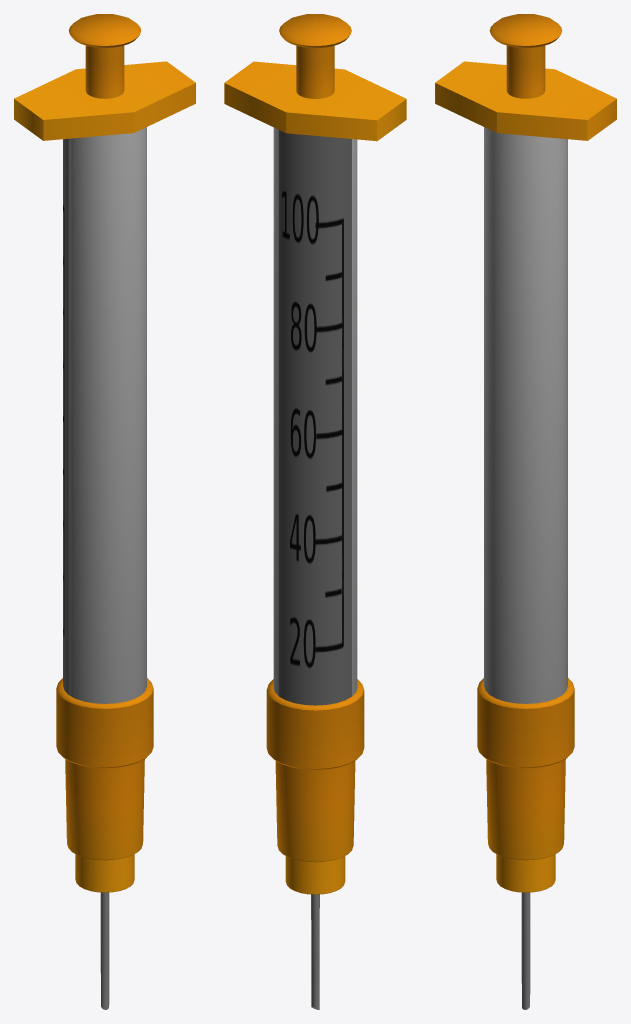
The model's file is Syrn_V1.FBX.
The picture shows the model from 3 angles, left to right: view 1: azimuth 30°, elevation 25°; view 2: azimuth 150°, elevation 25°; view 3: azimuth 330°, elevation 25°; orthographic projection.
Parts seen in each view (by area): view 1: Syringe; view 2: Syringe; view 3: Syringe.
Part boxes in pixels (x1=…): Syringe: x1=14, y1=14, x2=195, y2=1009; Syringe: x1=224, y1=14, x2=406, y2=1009; Syringe: x1=435, y1=14, x2=616, y2=1009.
Bounding box in the file's own units: 10.18 × 62.45 × 6.74.
Materials: 1 (1 with a texture image).
